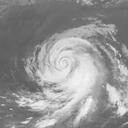cyclone: (38, 37, 108, 85)
